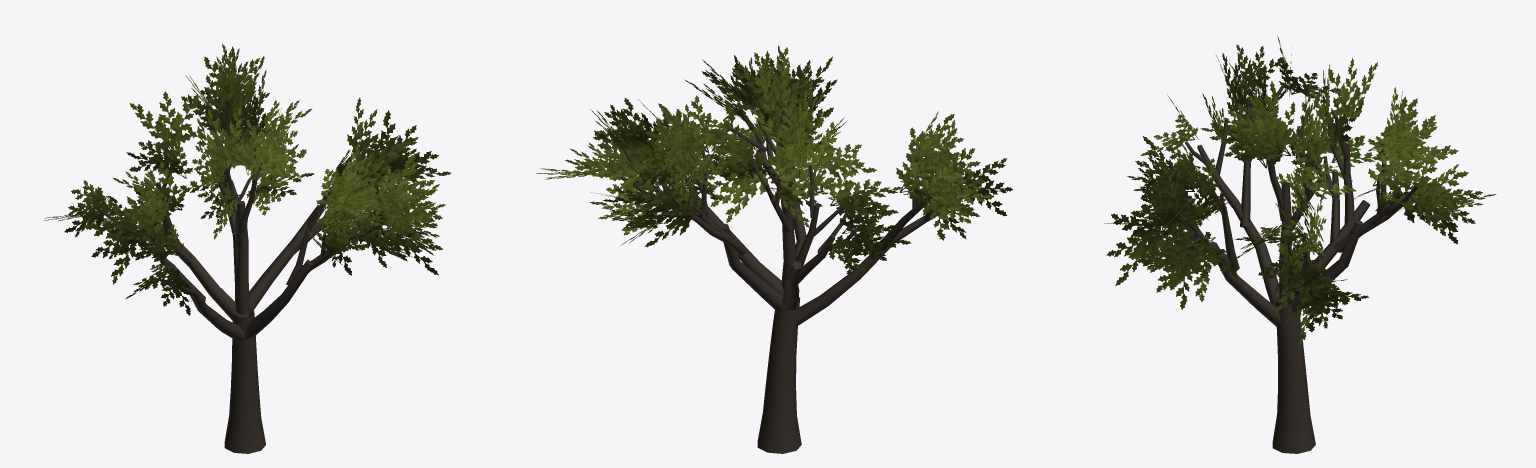
The model's file is oak_2_burnt2.glb.
3 views of the same model, side by side, from view 1: azimuth 30°, elevation 25°; view 2: azimuth 150°, elevation 25°; view 3: azimuth 270°, elevation 25° (orthographic). The views are drawn at different scales.
Parts seen in each view (by area): view 1: oak_2_burnt2; view 2: oak_2_burnt2; view 3: oak_2_burnt2.
Part boxes in pixels (bbox=[...]): oak_2_burnt2: bbox=[44, 43, 451, 453]; oak_2_burnt2: bbox=[536, 45, 1013, 453]; oak_2_burnt2: bbox=[1104, 36, 1496, 453].
Size of the model in its own units: 11.1 by 8.69 by 8.9.
Materials: 2 (1 with a texture image).
